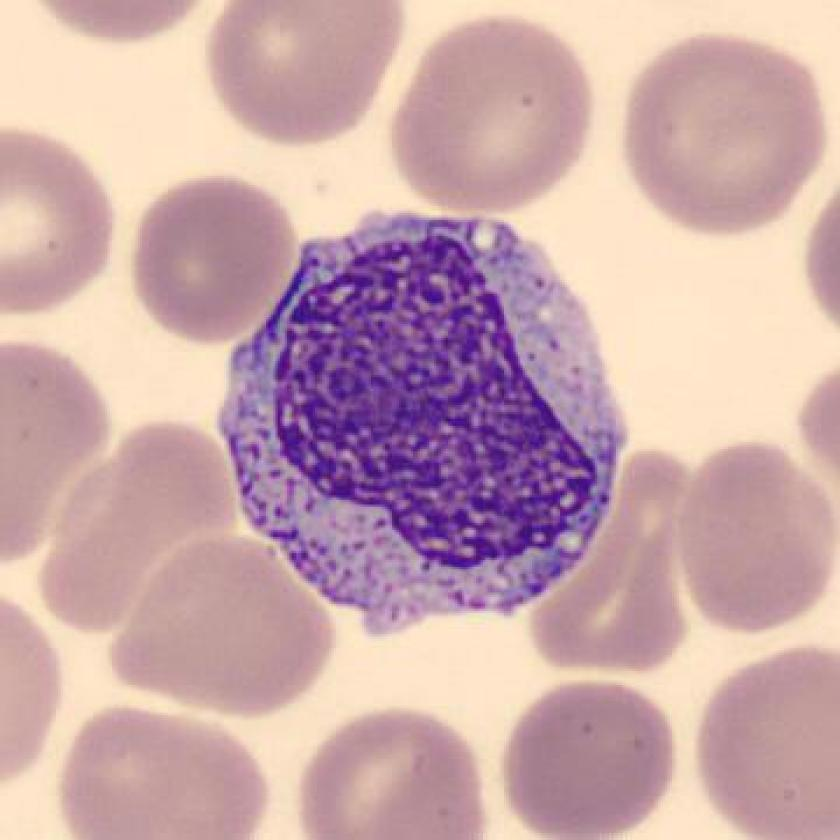monocyte: (197, 189, 661, 654)
